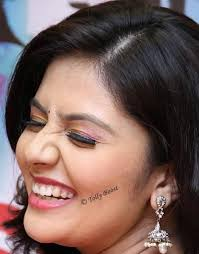indian_female: (11, 19, 168, 241)
